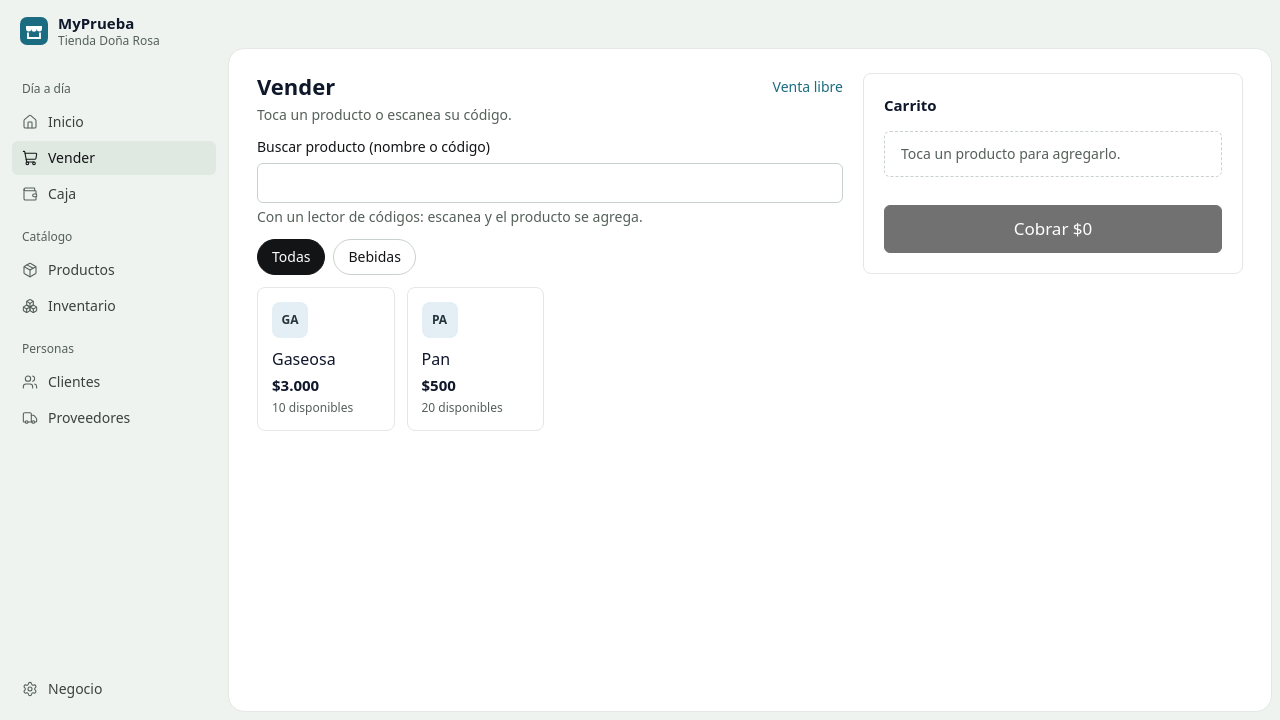
it: point of sale › finds products by category, text or barcode
Expected: the button with aria-label "Agregar Pan" is shown, top-left (406, 286), bottom-right (544, 431)
Click the button "Bebidas" at (375, 256), box top-left (334, 238), bottom-right (416, 274)
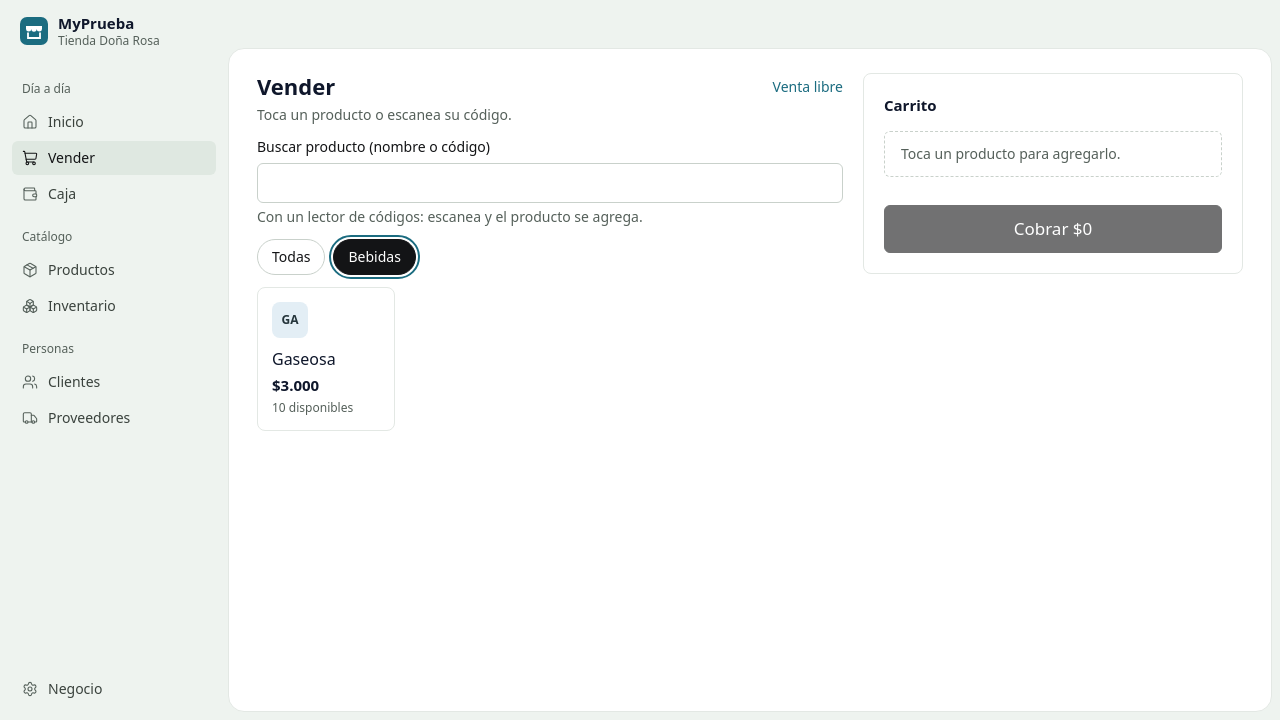
Click the button "Todas" at (291, 256), box top-left (257, 238), bottom-right (326, 274)
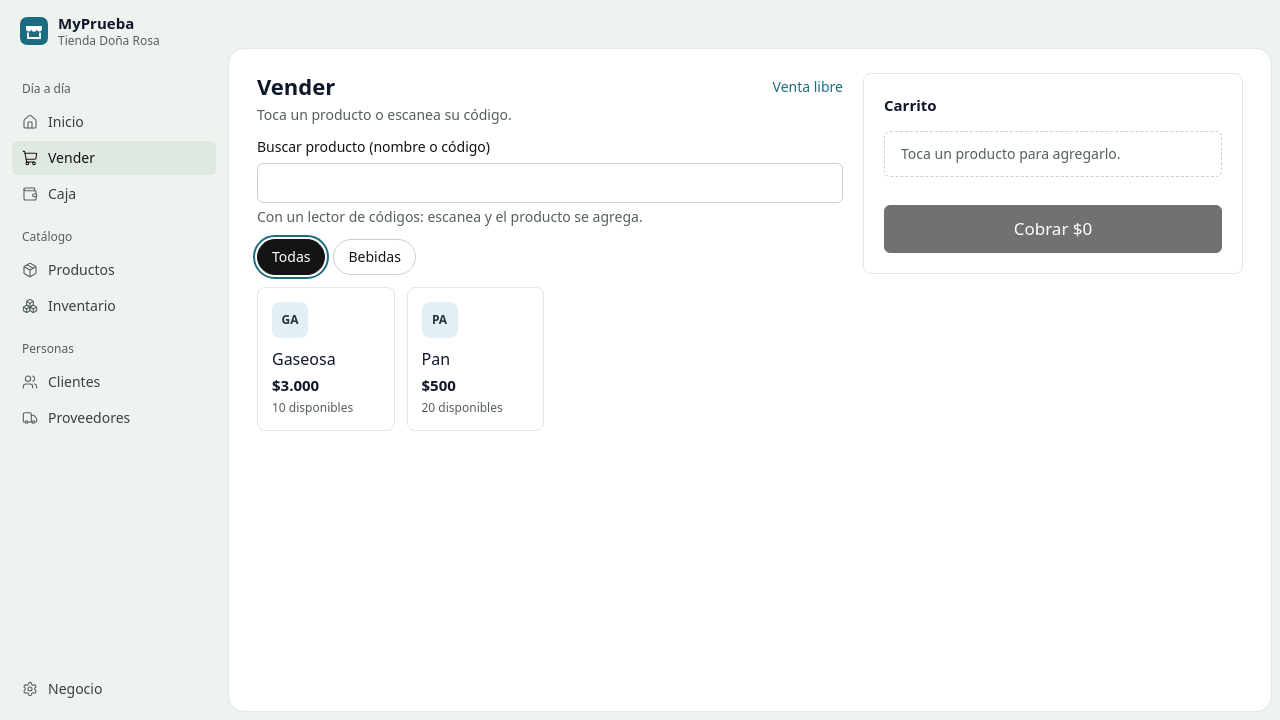
Type "pan" into the search field labelled "Buscar producto (nombre o código)" at (550, 182), box top-left (257, 162), bottom-right (843, 202)
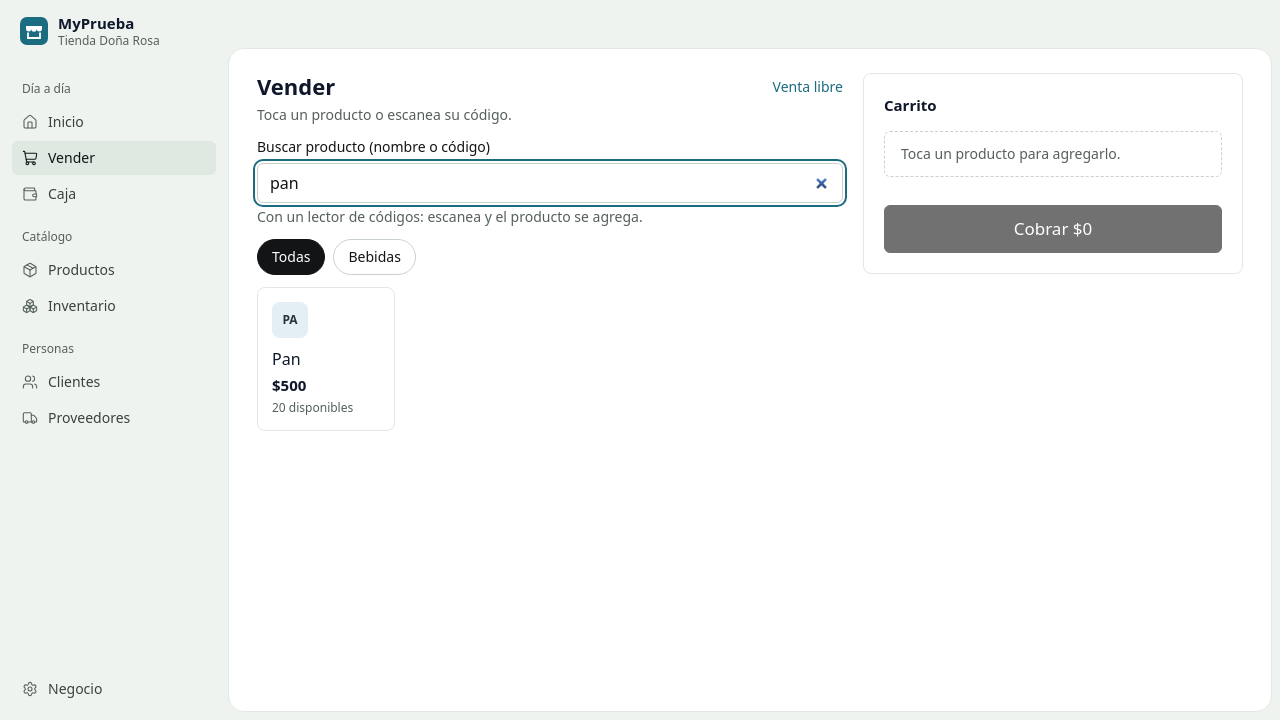
Replace the text in the search field labelled "Buscar producto (nombre o código)" with "7702004003508" at (550, 182), box top-left (257, 162), bottom-right (843, 202)
Then press Enter
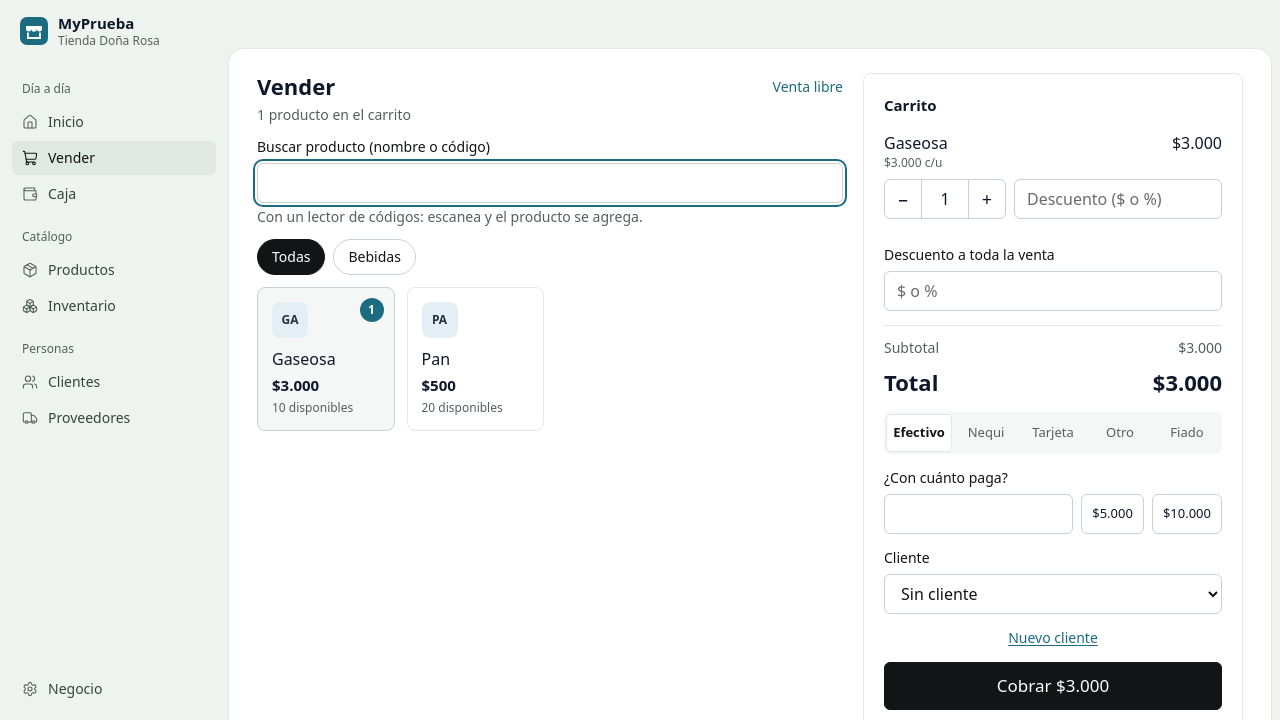
Expected: the field named "Cantidad de Gaseosa" holds "1", top-left (921, 180), bottom-right (969, 218)
